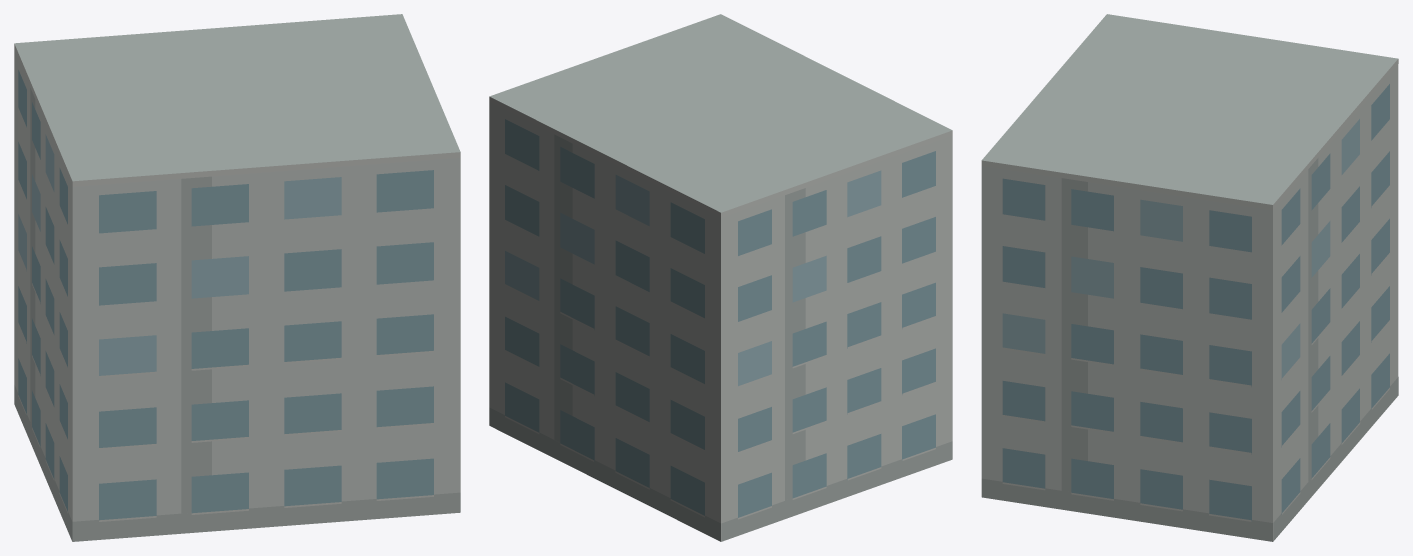
File: residential-12714a88-4733-4865-b052-2e23d17e4d70.glb
The picture shows the model from 3 angles, left to right: view 1: azimuth 30°, elevation 25°; view 2: azimuth 150°, elevation 25°; view 3: azimuth 270°, elevation 25°; orthographic projection. The views are drawn at different scales.
Parts seen in each view (by area): view 1: residential-12714a88-4733-4865-b052-2e23d17e4d70.tmp; view 2: residential-12714a88-4733-4865-b052-2e23d17e4d70.tmp; view 3: residential-12714a88-4733-4865-b052-2e23d17e4d70.tmp.
Boxes of the visible parts, x1=… form: residential-12714a88-4733-4865-b052-2e23d17e4d70.tmp: x1=14, y1=14, x2=460, y2=541; residential-12714a88-4733-4865-b052-2e23d17e4d70.tmp: x1=489, y1=14, x2=952, y2=541; residential-12714a88-4733-4865-b052-2e23d17e4d70.tmp: x1=981, y1=14, x2=1398, y2=541.
Bounding box in the file's own units: 18.55 × 15.25 × 17.11.
